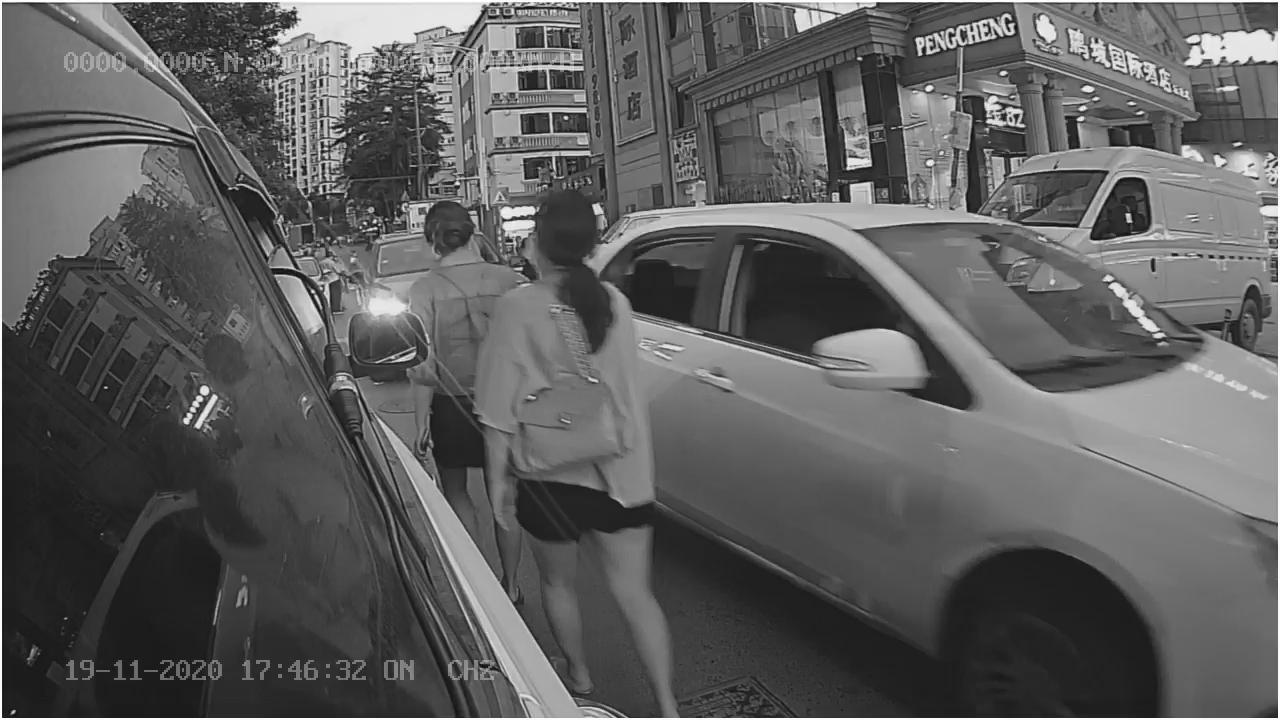person: (479, 194, 657, 597)
